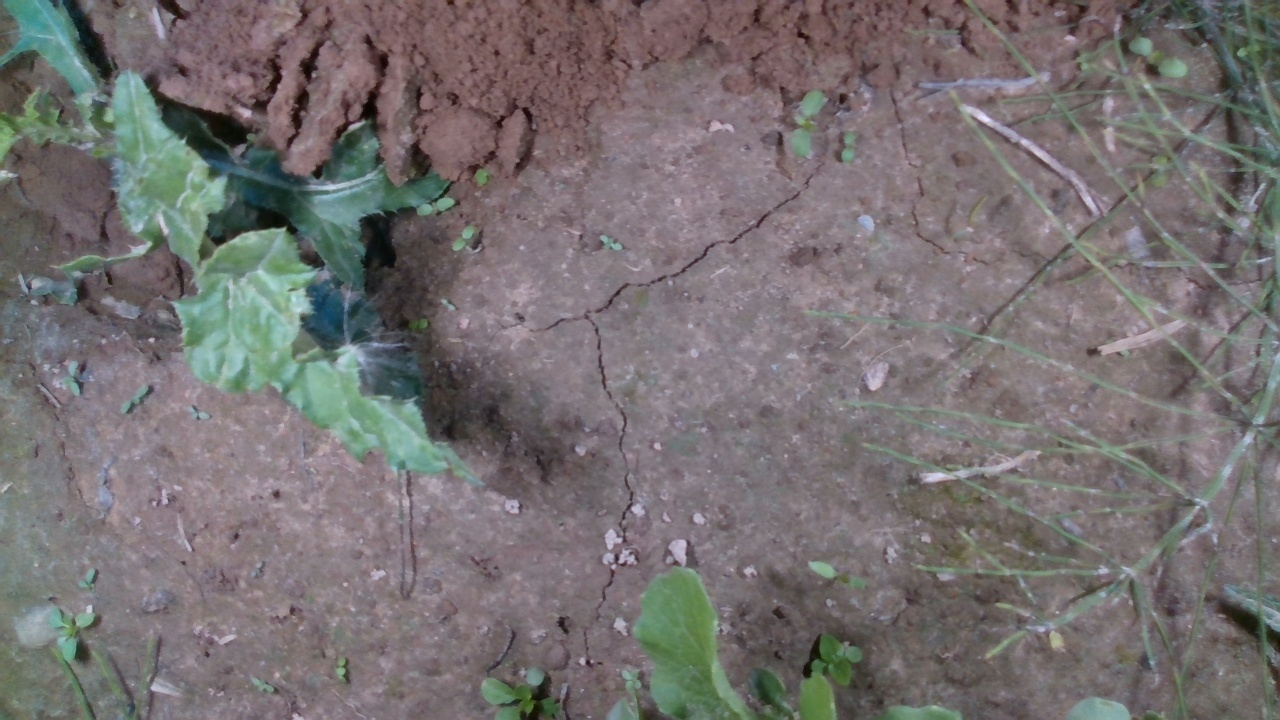weed: (789, 88, 825, 159), (116, 382, 150, 416), (58, 357, 86, 398), (450, 221, 477, 252), (839, 130, 857, 165), (76, 566, 98, 590), (186, 403, 211, 421), (250, 676, 275, 693), (598, 233, 623, 250), (407, 316, 429, 330), (439, 298, 457, 311)
